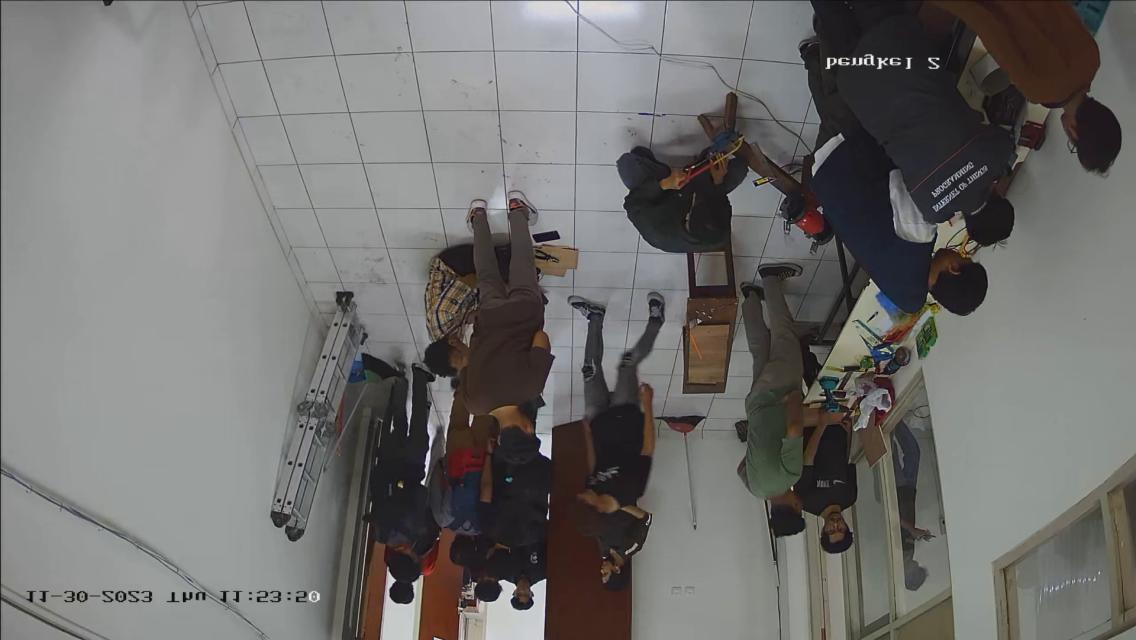Crowd: (360, 168, 693, 623)
